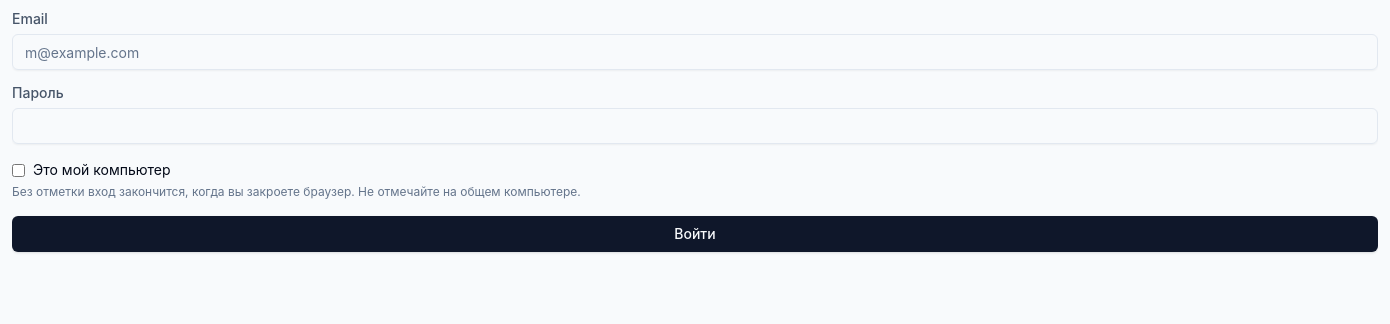
Test case: LoginForm › shows Russian validation messages for an empty form
Click the button "Войти" at (695, 234), box x1=12 y1=216 x2=1378 y2=252
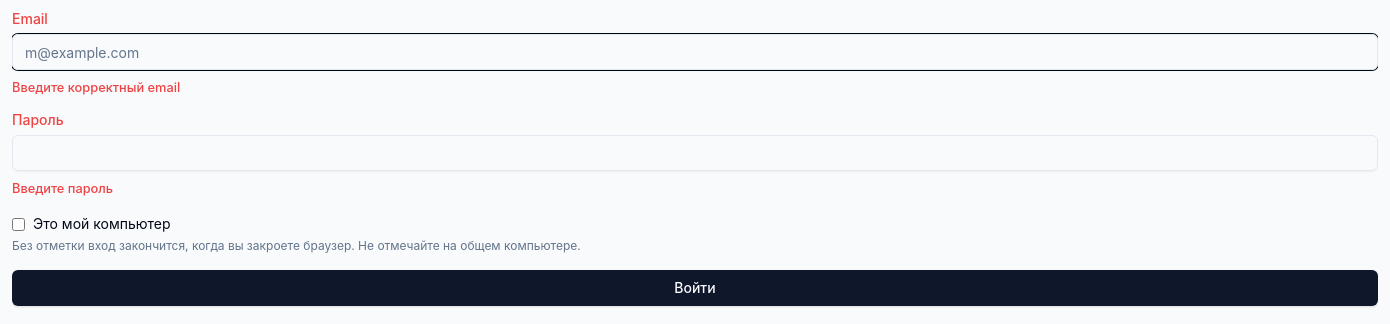
Now the text "Введите корректный email" is shown, box x1=12 y1=80 x2=180 y2=95
Now the text "Введите пароль" is shown, box x1=12 y1=181 x2=113 y2=196
